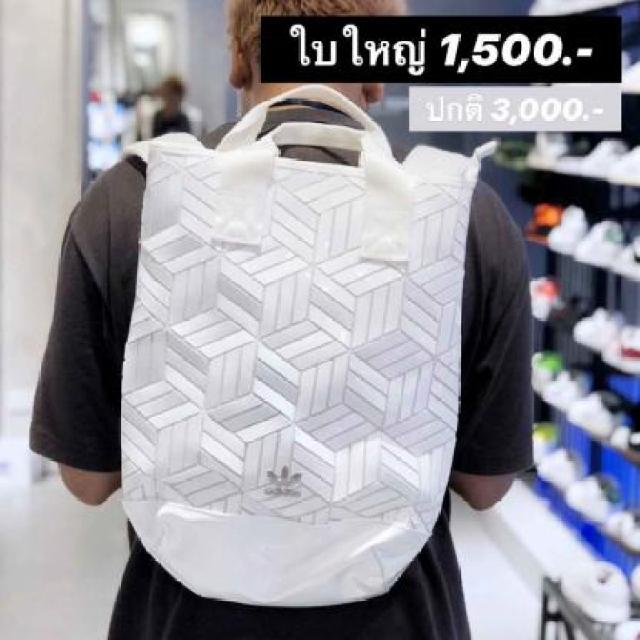Bag: (109, 86, 502, 620)
